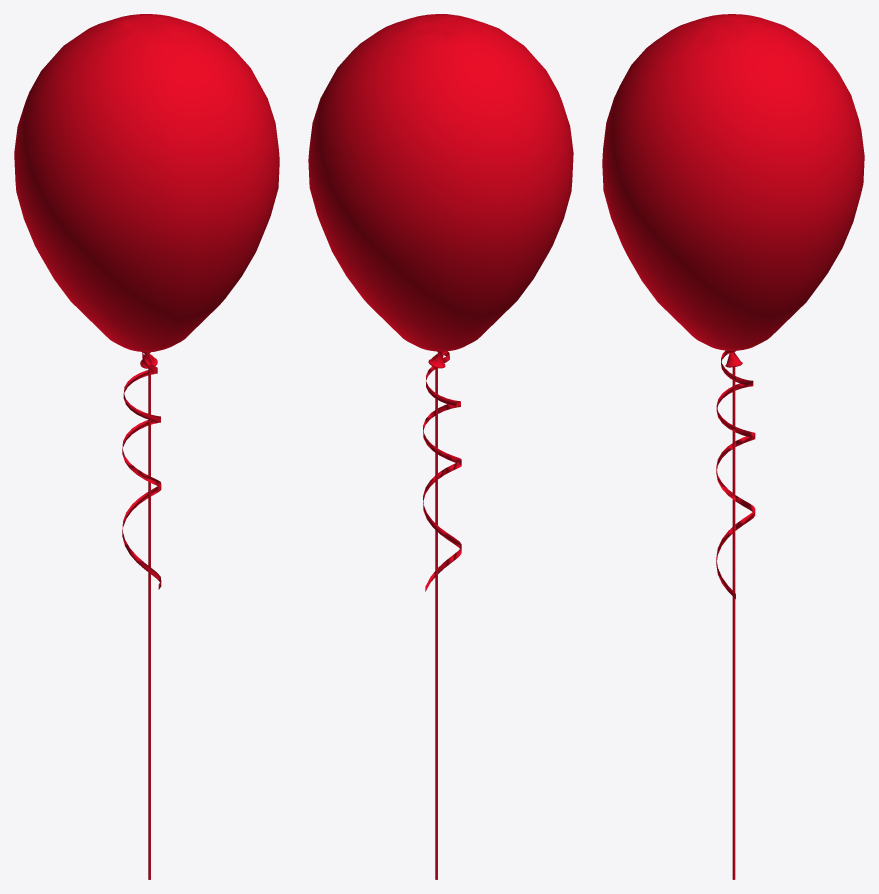
File: Red Ballon.fbx
The picture shows the model from 3 angles, left to right: view 1: azimuth 30°, elevation 25°; view 2: azimuth 150°, elevation 25°; view 3: azimuth 270°, elevation 25°; orthographic projection.
Parts seen in each view (by area): view 1: Object_12.002; view 2: Object_12.002; view 3: Object_12.002.
Boxes of the visible parts, x1,y1,x2,y2 form: Object_12.002: (14,14,279,879); Object_12.002: (308,14,573,879); Object_12.002: (602,14,864,879).
Bounding box in the file's own units: 200 × 707 × 198.
